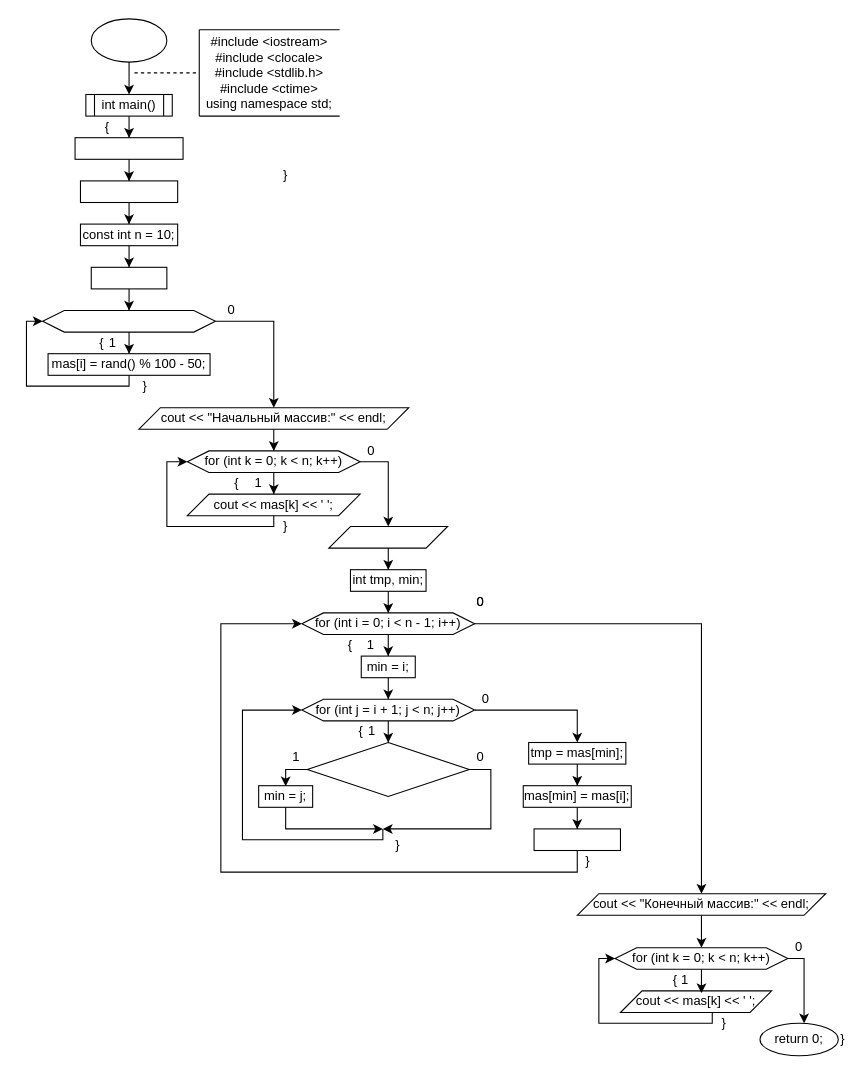
Image size: 865x1075. Some labels were removed from this diagram. The shapes that lost their labels are listed below. From the top down, each one's centre as x and y in pixels, then its label:
the point at 128,40: Начало
the point at 128,148: setlocale(0,"rus");
the point at 128,191: srand(time(0));
the point at 128,277: int mas[n];
the point at 128,320: for (int i = 0; i < n; i++)
the point at 388,536: cout << '\n';
the point at 387,768: if (mas[j] < mas[min])
the point at 576,839: mas[i] = tmp;
